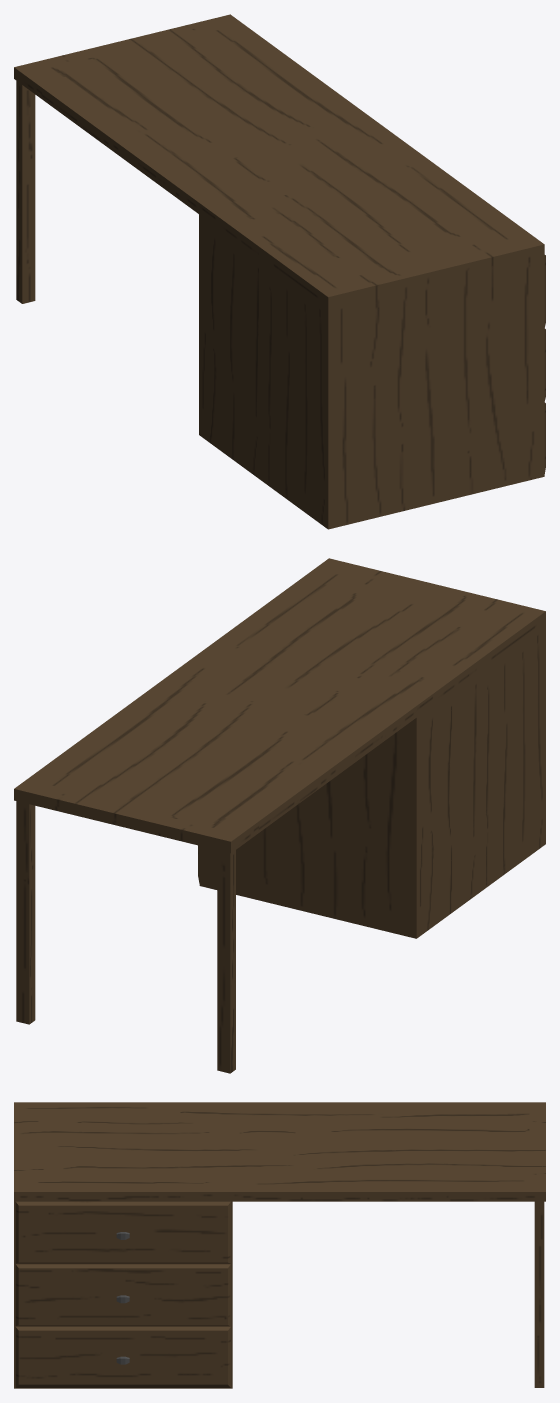
Rendered from pcTable2.fbx.
The picture shows the model from 3 angles, top to bottom: view 1: azimuth 30°, elevation 25°; view 2: azimuth 150°, elevation 25°; view 3: azimuth 270°, elevation 25°; orthographic projection. The views are drawn at different scales.
Visible parts, largest first — view 1: pcTable2.001; view 2: pcTable2.001; view 3: pcTable2.001.
Part boxes in pixels (x1,y1,x2,y2): pcTable2.001: (14, 14, 545, 529); pcTable2.001: (14, 558, 545, 1073); pcTable2.001: (14, 1102, 545, 1388).
Size of the model in its own units: 111 by 108 by 264.
1 material, 1 textured.
